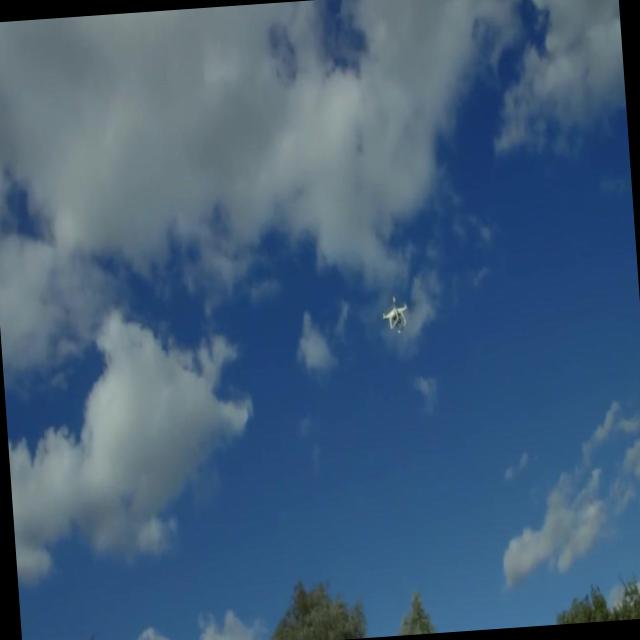drone: (380, 292, 411, 336)
